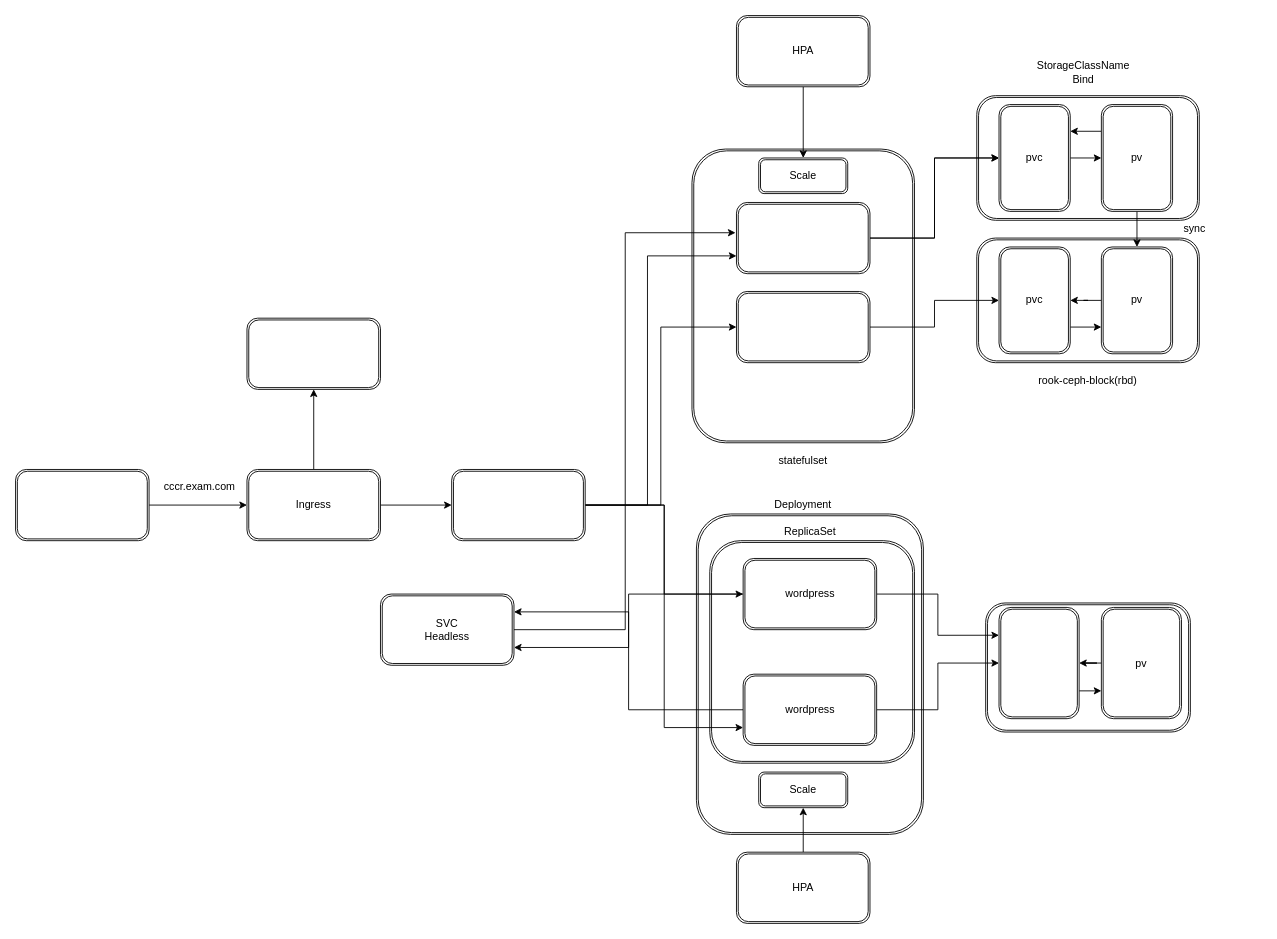
This 1277x939 diagram has some shape labels left out. The shapes that lost their labels are listed below. From the top down, each one's centre as x and y in pixels, then its label:
(x=803, y=238): mysql-0
(x=803, y=327): mysql-1
(x=313, y=353): TLS secret (https certs)
(x=82, y=505): WEB BROWSER Firefox
(x=518, y=505): SVC ClusterIP
(x=1038, y=663): pvc (cephfs)
